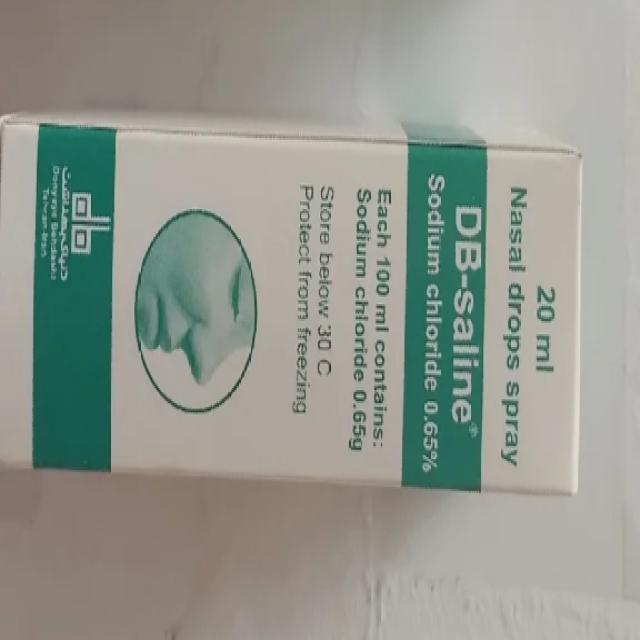drug-name: (452, 194, 480, 426)
